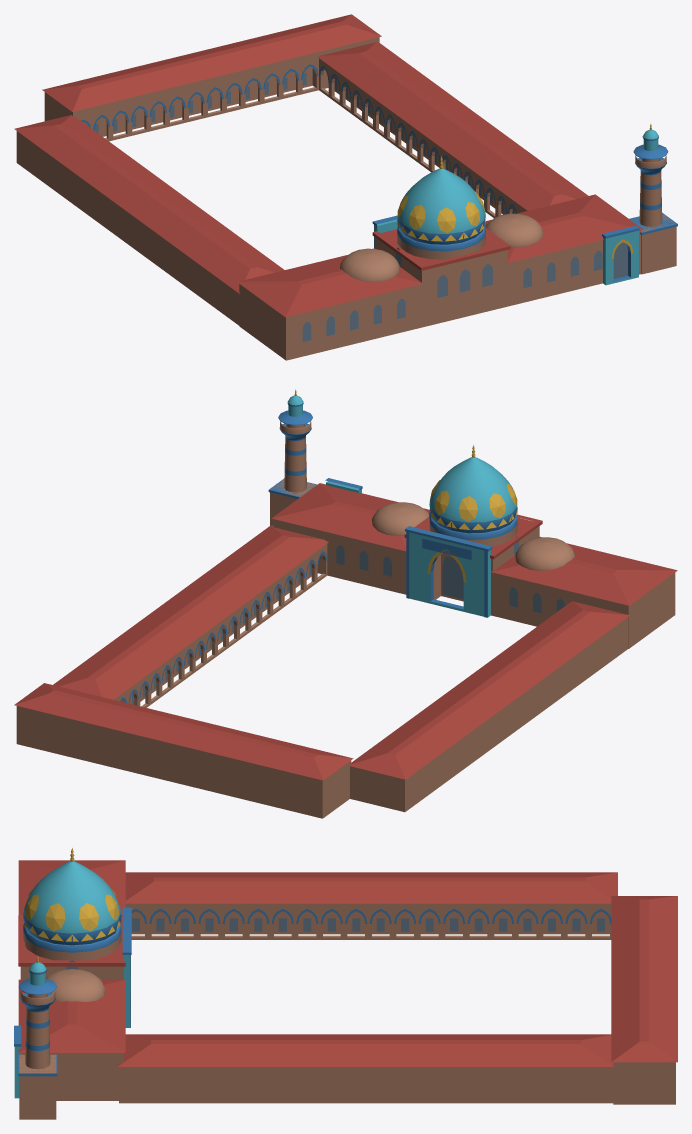
The model's file is yerevan-blue-mosque.glb.
3 views of the same model, one above another, from view 1: azimuth 30°, elevation 25°; view 2: azimuth 150°, elevation 25°; view 3: azimuth 270°, elevation 25° (orthographic). The views are drawn at different scales.
Visible parts, largest first — view 1: Blue Mosque; view 2: Blue Mosque; view 3: Blue Mosque.
Boxes of the visible parts, x1=… form: Blue Mosque: x1=14, y1=14, x2=677, y2=360; Blue Mosque: x1=14, y1=389, x2=677, y2=818; Blue Mosque: x1=14, y1=848, x2=677, y2=1119.
Size of the model in its own units: 73.2 by 25.7 by 97.4.
